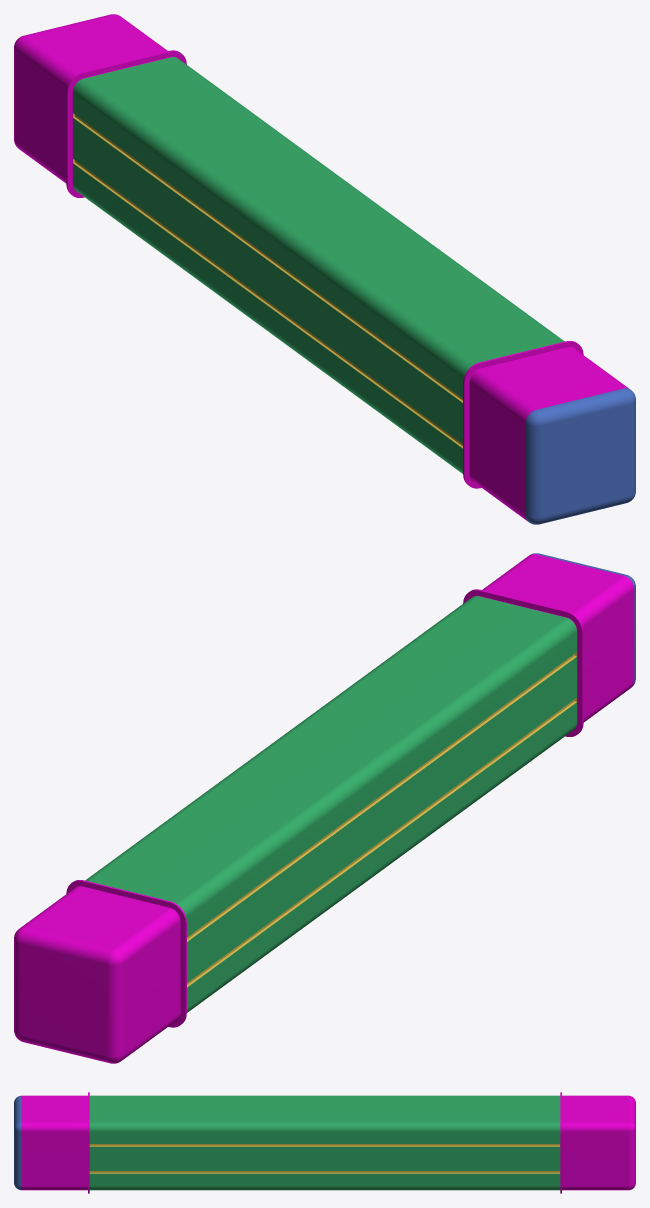
File: Corridor.fbx
3 views of the same model, one above another, from view 1: azimuth 30°, elevation 25°; view 2: azimuth 150°, elevation 25°; view 3: azimuth 270°, elevation 25° (orthographic). The views are drawn at different scales.
Parts seen in each view (by area): view 1: SM_Room; view 2: SM_Room; view 3: SM_Room.
Boxes of the visible parts, x1,y1,x2,y2 form: SM_Room: (14,14,635,524); SM_Room: (14,553,635,1063); SM_Room: (14,1092,635,1193).
Bounding box in the file's own units: 671 × 671 × 5095.
